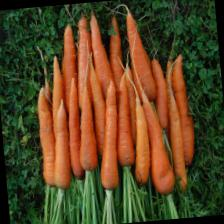carrot: (139, 86, 175, 196), (91, 78, 124, 190), (168, 52, 198, 168), (124, 6, 156, 104), (108, 70, 135, 168), (164, 84, 188, 194), (45, 98, 73, 190), (34, 86, 59, 187), (62, 76, 85, 180), (127, 92, 152, 186), (72, 84, 98, 172), (149, 57, 171, 130)
